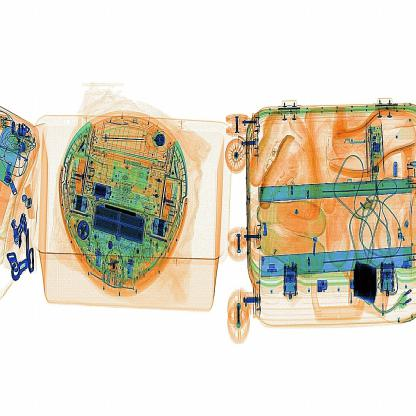wrench: (95, 129, 150, 151)
